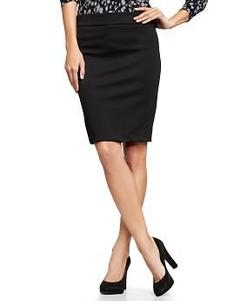F_tailored skirt: (62, 11, 166, 148)
